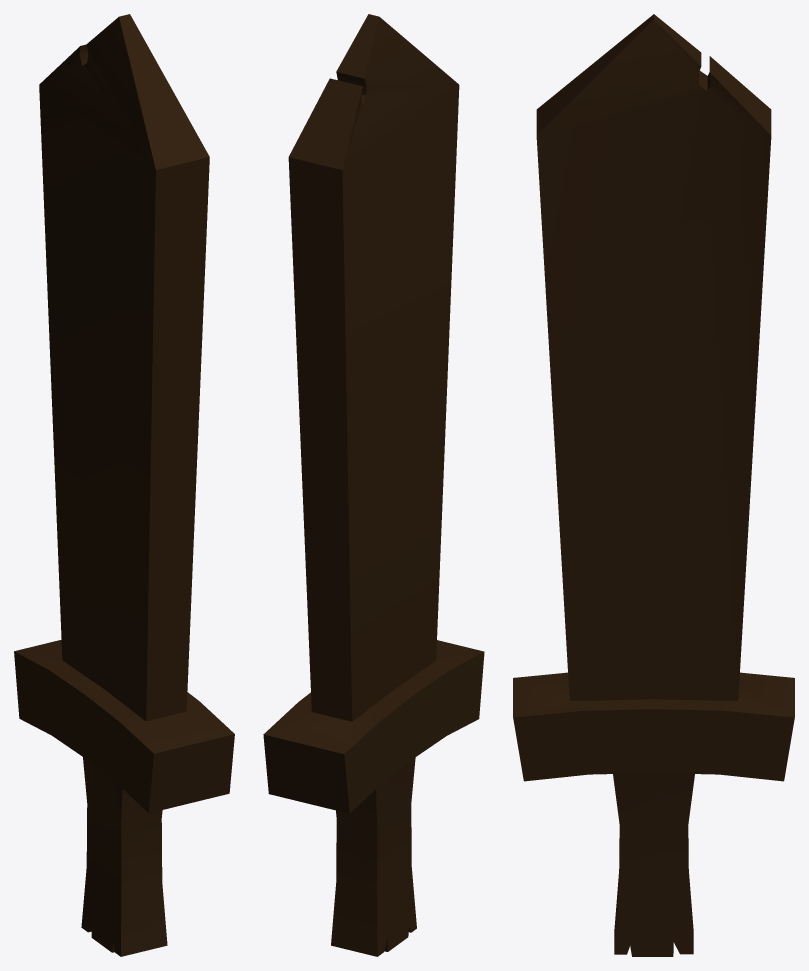
File: Sword.fbx
The picture shows the model from 3 angles, left to right: view 1: azimuth 30°, elevation 25°; view 2: azimuth 150°, elevation 25°; view 3: azimuth 270°, elevation 25°; orthographic projection.
Parts seen in each view (by area): view 1: Box001; view 2: Box001; view 3: Box001.
Boxes of the visible parts, <box> form: Box001: <box>14,14,234,956</box>; Box001: <box>263,14,484,956</box>; Box001: <box>513,14,794,956</box>.
Bounding box in the file's own units: 4 × 43.65 × 12.
